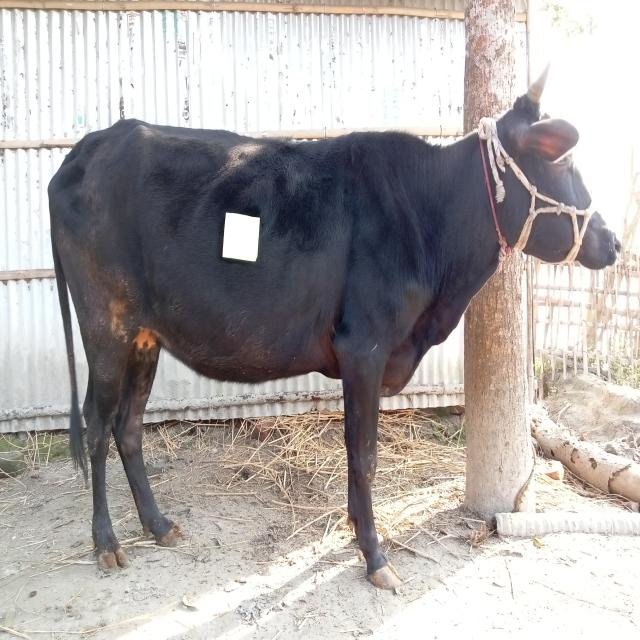badan_sapi: (81, 137, 401, 387)
sapi: (47, 61, 623, 594)
